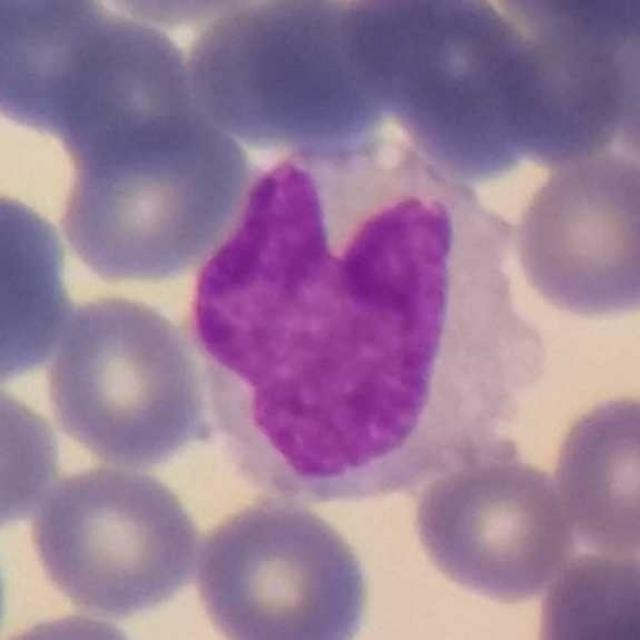Monocyte: (183, 129, 546, 501)
RBC: (46, 72, 257, 293), (358, 0, 539, 177), (41, 289, 208, 470), (26, 461, 204, 620), (189, 495, 372, 640), (408, 454, 576, 606), (234, 0, 388, 156), (495, 0, 640, 164), (508, 151, 640, 323), (2, 1, 126, 139), (1, 179, 77, 391), (547, 387, 640, 556), (531, 547, 640, 640), (0, 376, 61, 538), (488, 0, 638, 45), (605, 20, 640, 184), (1, 609, 153, 640), (78, 0, 263, 24)
